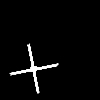single_crochet: (10, 44, 57, 92)
